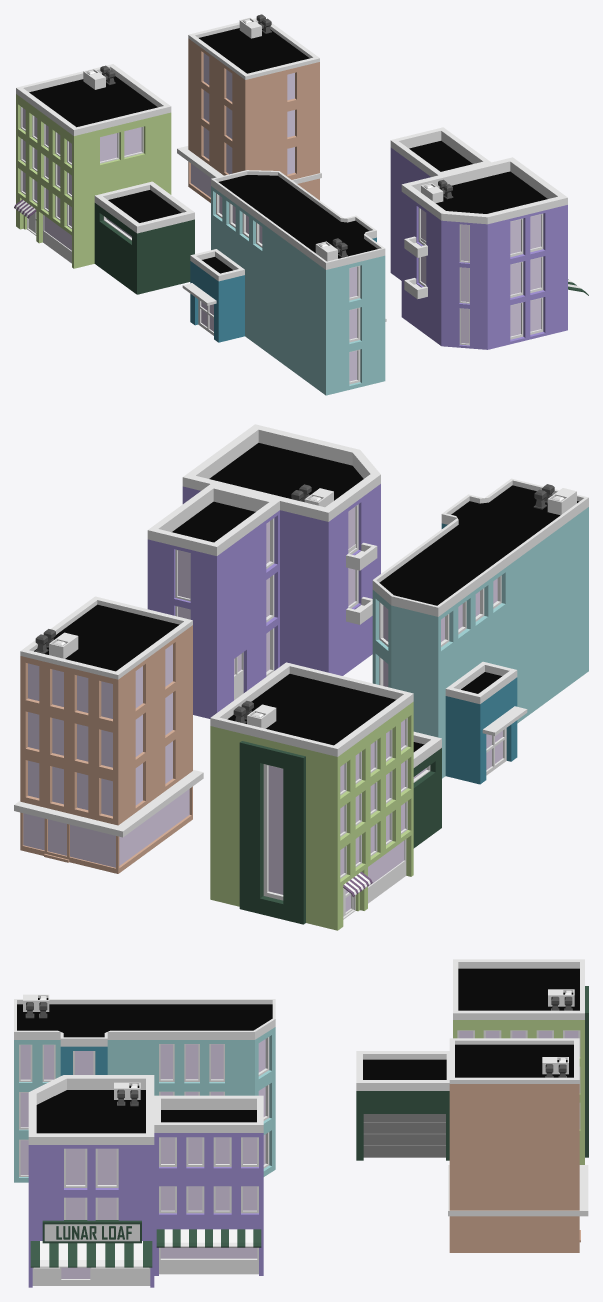
The model's file is ceentral_block.fbx.
3 views of the same model, one above another, from view 1: azimuth 30°, elevation 25°; view 2: azimuth 150°, elevation 25°; view 3: azimuth 270°, elevation 25° (orthographic). The views are drawn at different scales.
Visible parts, largest first — view 1: Text.004; view 2: Text.004; view 3: Text.004.
Boxes of the visible parts, x1,y1,x2,y2 form: Text.004: (14, 14, 588, 395); Text.004: (14, 424, 588, 930); Text.004: (14, 959, 588, 1287).
Size of the model in its own units: 7030 by 3204 by 9152.
